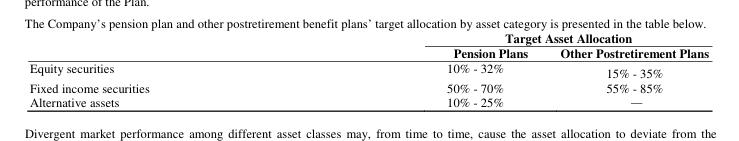table: (29, 29, 708, 109)
table column: (29, 29, 297, 109), (297, 29, 543, 109), (543, 29, 708, 109)
table column header: (29, 29, 708, 60)
table row: (29, 60, 708, 79), (29, 29, 708, 45), (29, 45, 708, 60), (29, 79, 708, 94), (29, 94, 708, 109)
table spanning cell: (297, 29, 708, 45)
